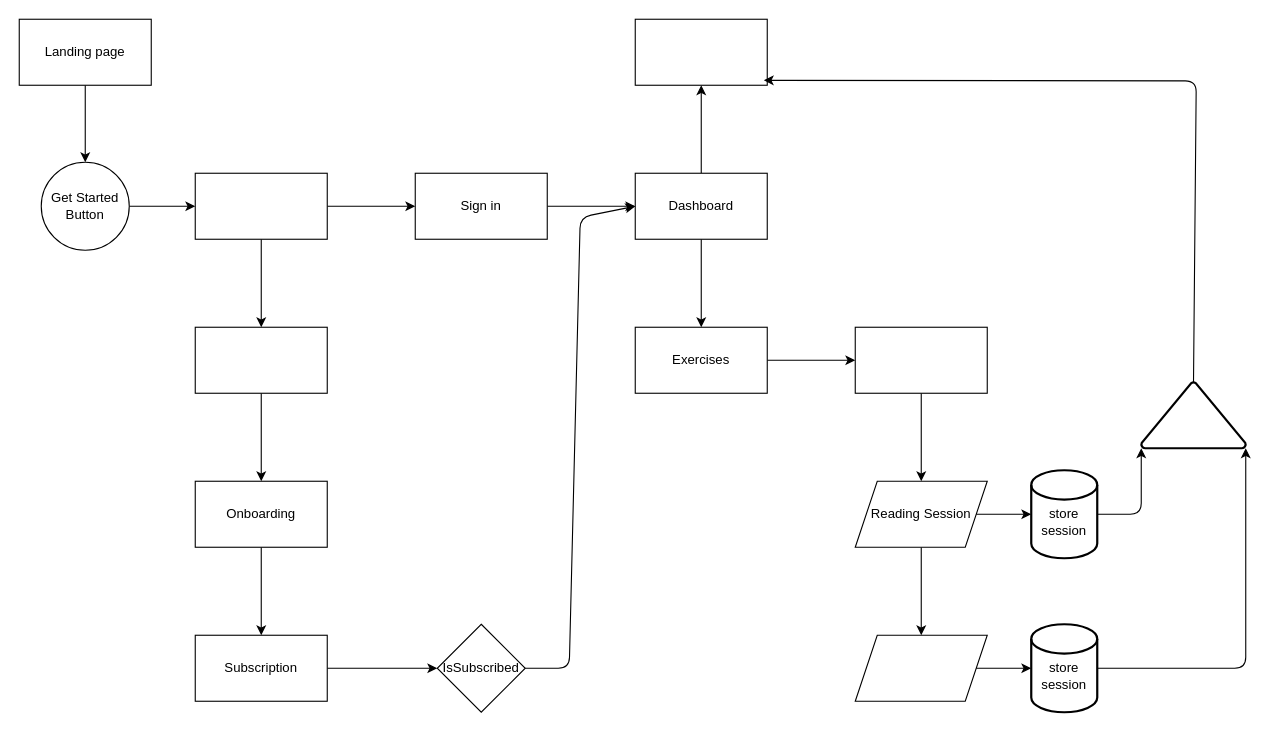
Some shapes in this 1274 by 733 pixel diagram are drawn without their labels. Here are the shapes that lost their labels. From the top down, the box of each, then its label:
(634, 18, 767, 85): Overview
(194, 172, 327, 239): Auth Page
(194, 326, 327, 393): Sign up
(854, 326, 987, 393): Training
(854, 634, 987, 701): Comprehension session
